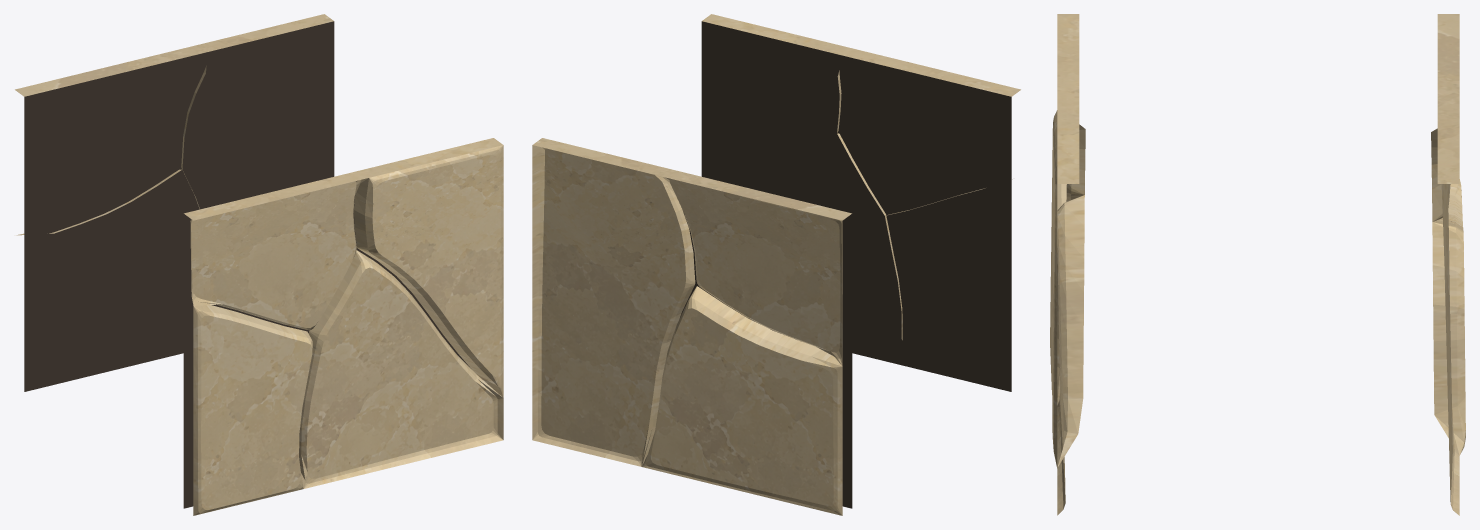
Rendered from ground_strip_07.glb.
The picture shows the model from 3 angles, left to right: view 1: azimuth 30°, elevation 25°; view 2: azimuth 150°, elevation 25°; view 3: azimuth 270°, elevation 25°; orthographic projection. The views are drawn at different scales.
Visible parts, largest first — view 1: GroundStrip07_Body; view 2: GroundStrip07_Body; view 3: GroundStrip07_Body.
Boxes of the visible parts, left/top/right/bottom form: GroundStrip07_Body: left=15, top=14, right=503, bottom=515; GroundStrip07_Body: left=532, top=14, right=1020, bottom=515; GroundStrip07_Body: left=1050, top=14, right=1465, bottom=515.
Bounding box in the file's own units: 1 × 0.91 × 1.03.
Materials: 9 (8 with a texture image).
